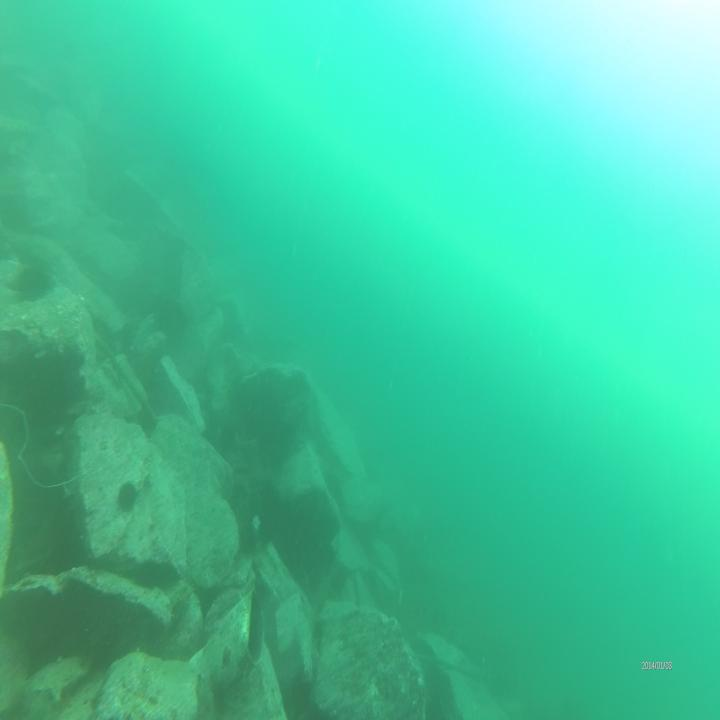echinus: (13, 266, 55, 306), (115, 473, 141, 520), (215, 426, 241, 462), (235, 520, 257, 562)
